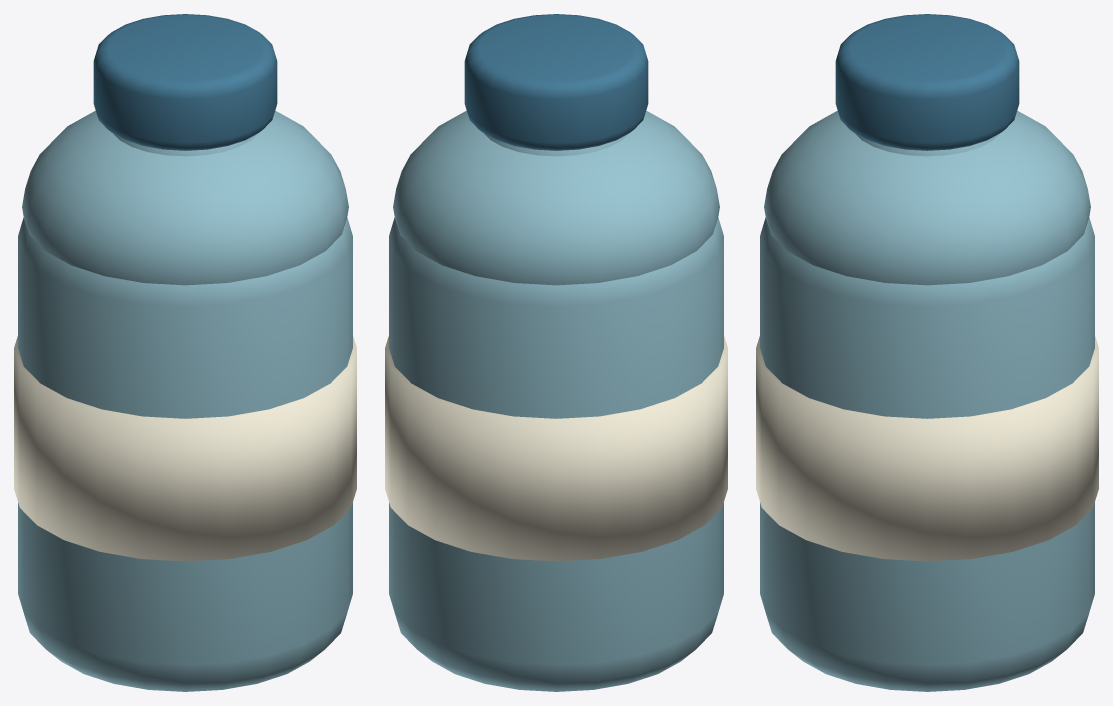
Rendered from water_bottle.glb.
3 views of the same model, side by side, from view 1: azimuth 30°, elevation 25°; view 2: azimuth 150°, elevation 25°; view 3: azimuth 270°, elevation 25° (orthographic).
Visible parts, largest first — view 1: water_bottle_textured_mesh; view 2: water_bottle_textured_mesh; view 3: water_bottle_textured_mesh.
Part boxes in pixels (bbox=[...]): water_bottle_textured_mesh: bbox=[14, 14, 356, 691]; water_bottle_textured_mesh: bbox=[385, 14, 727, 691]; water_bottle_textured_mesh: bbox=[756, 14, 1098, 691].
Bounding box in the file's own units: 0.86 × 1.63 × 0.86.
1 material, 1 textured.
